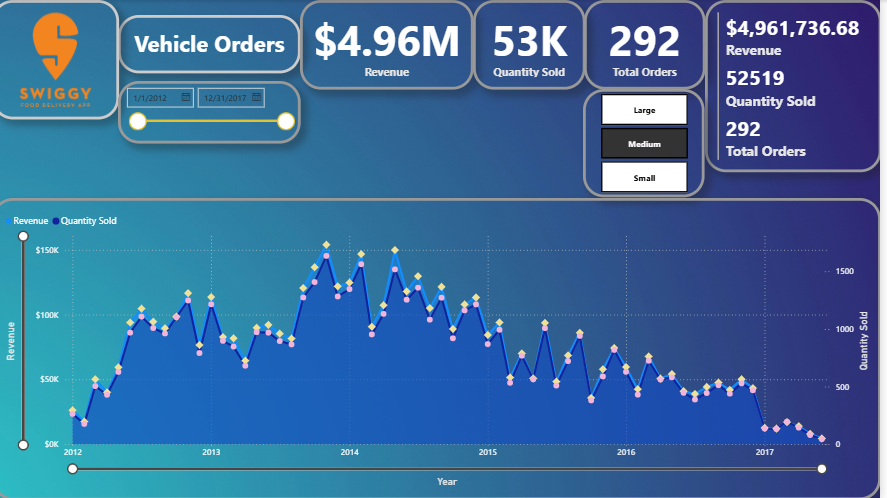

This screenshot's page, from the dashboard's own definition file:
{"tool":"powerbi","page":{"name":"Demo Insights","canvas":[1280,720],"ordinal":4},"visuals":[{"type":"textbox","box":[181,21,263,84],"z":0},{"type":"card","fields":{"Values":["Measure Table.Revenue"]},"box":[443,0,250,129],"z":1000},{"type":"card","fields":{"Values":["Measure Table.Quantity Sold"]},"box":[692,0,162,129],"z":2000},{"type":"card","fields":{"Values":["Measure Table.Total Orders"]},"box":[852,0,175,129],"z":3000},{"type":"multiRowCard","fields":{"Values":["Measure Table.Revenue","Measure Table.Quantity Sold","Measure Table.Total Orders"]},"box":[1026,0,254,248],"z":4000},{"type":"image","box":[0,0,183,172],"z":5000},{"type":"slicer","fields":{"Values":["Vehicle Orders.DEALSIZE"]},"box":[851.5,128.8,175.5,155.8],"z":6000},{"type":"slicer","fields":{"Values":["Calendar Table.Date"]},"box":[181,117,263,90],"z":7000},{"type":"lineChart","fields":{"Category":["Calendar Table.Date.Variation.Date Hierarchy.Year","Calendar Table.Date.Variation.Date Hierarchy.Quarter","Calendar Table.Date.Variation.Date Hierarchy.Month","Calendar Table.Date.Variation.Date Hierarchy.Day"],"Y":["Measure Table.Revenue"],"Y2":["Measure Table.Quantity Sold"]},"box":[0,285,1280,435],"z":8000}]}

Visuals, with their boxes in screenshot pixels (x1, y1, x2, y2), scaled from the page's 1280x720 canvas onto the 887x498 screenshot:
textbox: Rect(125, 15, 308, 73)
card - Measure Table.Revenue: Rect(307, 0, 480, 89)
card - Measure Table.Quantity Sold: Rect(480, 0, 592, 89)
card - Measure Table.Total Orders: Rect(590, 0, 712, 89)
multiRowCard - Measure Table.Revenue x Measure Table.Quantity Sold: Rect(711, 0, 886, 172)
image: Rect(0, 0, 127, 119)
slicer - Vehicle Orders.DEALSIZE: Rect(590, 89, 712, 197)
slicer - Calendar Table.Date: Rect(125, 81, 308, 143)
lineChart - Calendar Table.Date.Variation.Date Hierarchy.Year x Calendar Table.Date.Variation.Date Hierarchy.Quarter: Rect(0, 197, 886, 497)
